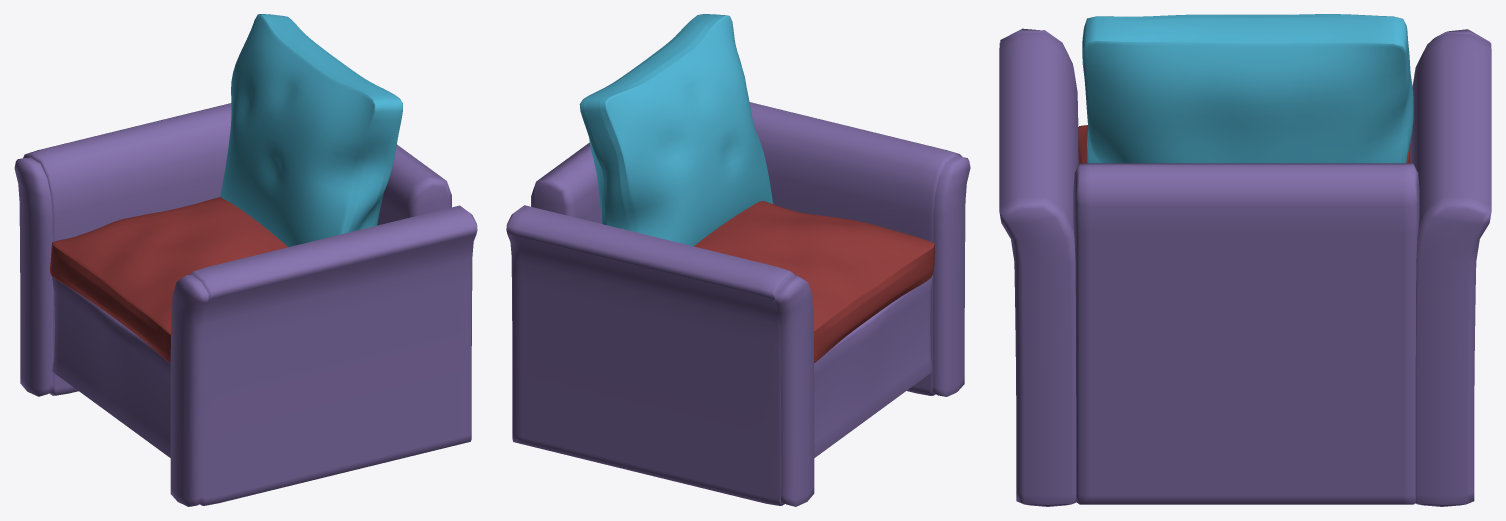
Rendered from new_sillón_mejorado (1).fbx.
3 views of the same model, side by side, from view 1: azimuth 30°, elevation 25°; view 2: azimuth 150°, elevation 25°; view 3: azimuth 270°, elevation 25° (orthographic). The views are drawn at different scales.
Visible parts, largest first — view 1: base_sillon1; view 2: base_sillon1; view 3: base_sillon1.
Boxes of the visible parts, left/top/right/bottom form: base_sillon1: left=14, top=14, right=477, bottom=506; base_sillon1: left=506, top=14, right=970, bottom=506; base_sillon1: left=999, top=14, right=1491, bottom=506.
Bounding box in the file's own units: 82.49 × 93.69 × 93.45.
